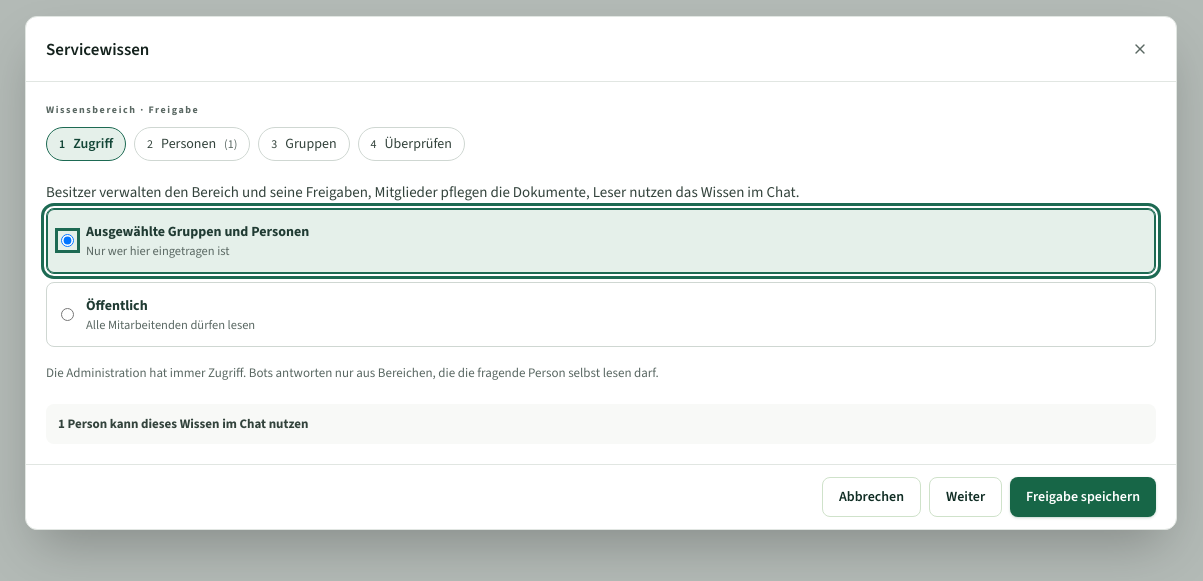
Test: updates the summary count as teams and persons are added
Step 1. Click the button "3 Gruppen" → click(304, 144), box [258,127,350,161]
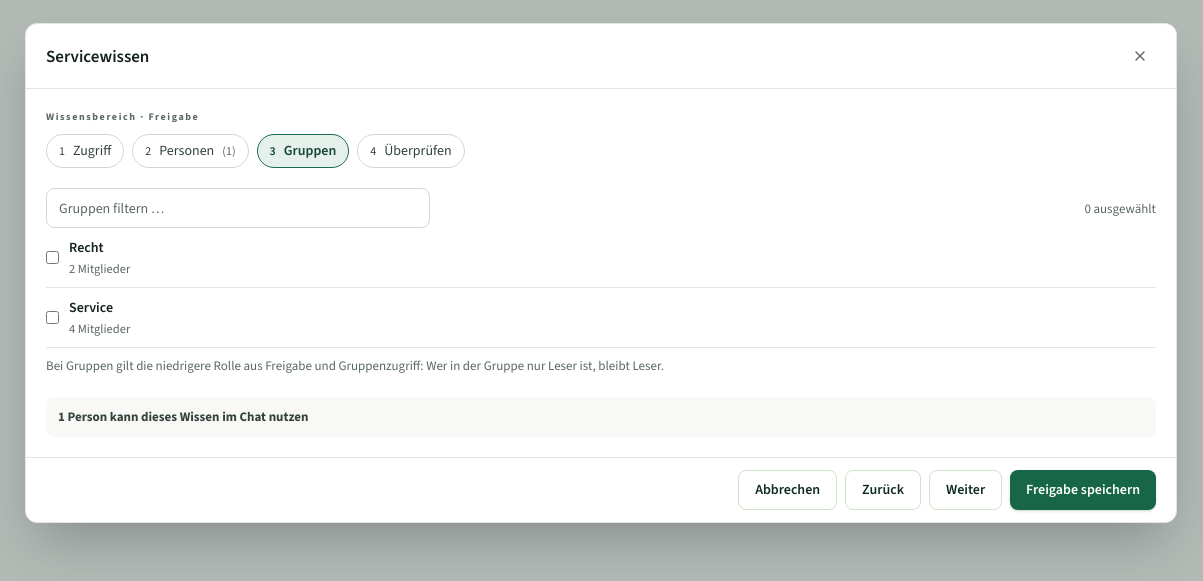
Expected: the text "1 Person kann dieses Wissen im Chat nutzen" is shown, [58,408,308,425]
Result: the checkbox labelled "Service 4 Mitglieder" is shown
Step 2. Click the checkbox labelled "Service 4 Mitglieder" → click(52, 318), box [46,311,59,324]
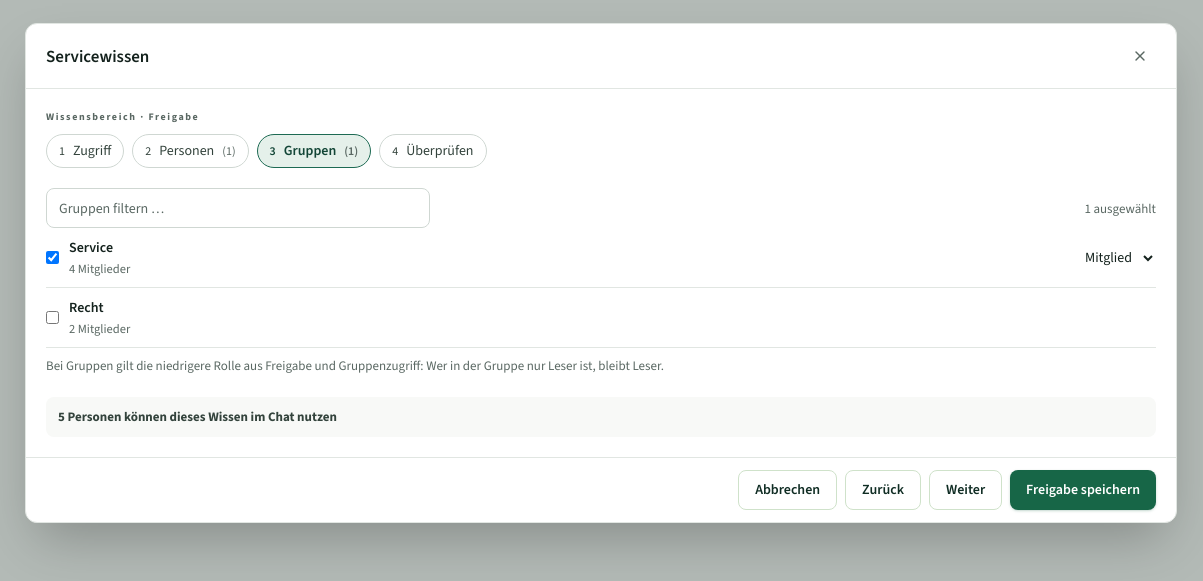
Result: the text "5 Personen können dieses Wissen im Chat nutzen" is shown at [58,408,337,425]
Step 3. Click the button "2 Personen (1)" → click(190, 151), box [132,134,249,168]
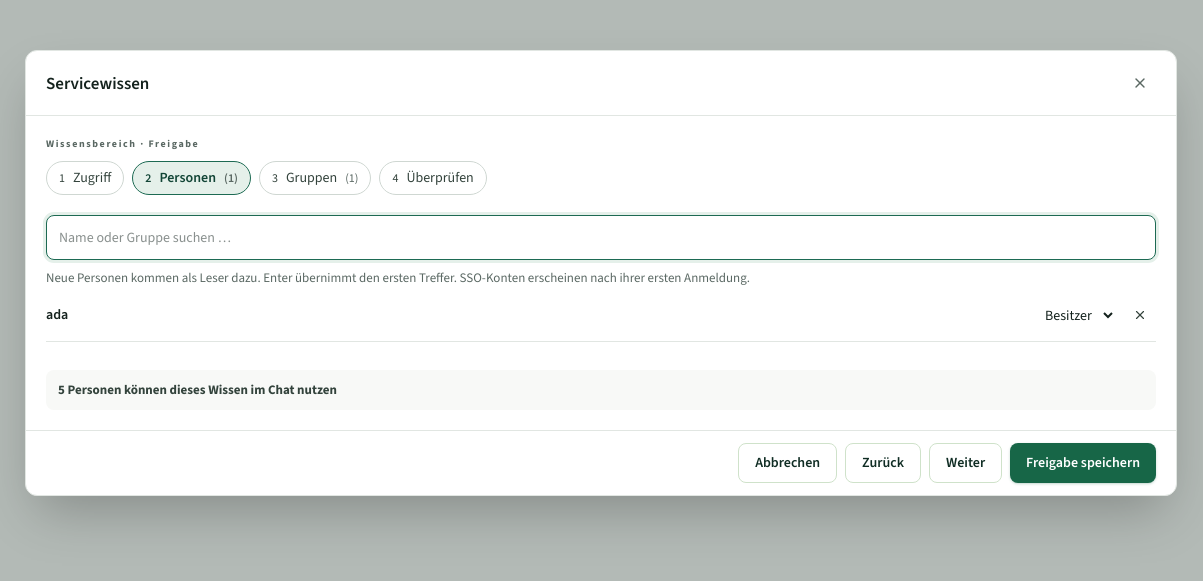
Step 4. Type "Max" into the search field with placeholder "Name oder Gruppe suchen …" → (601, 238), box [59,216,1143,259]
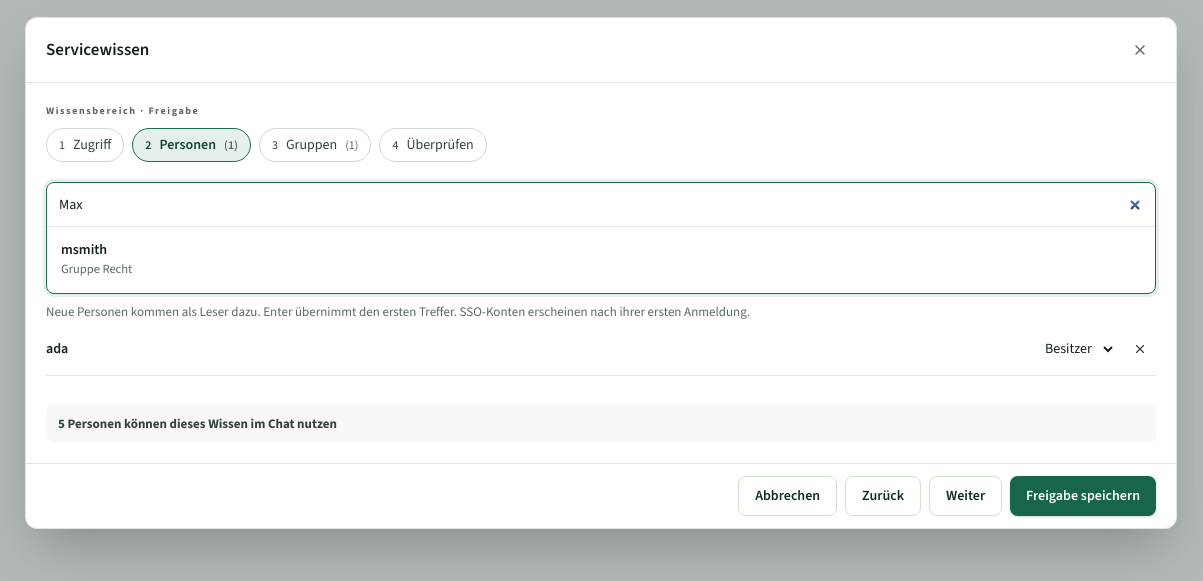
Step 5. Click the button "msmith Gruppe Recht" → click(84, 249), box [53,231,1149,287]
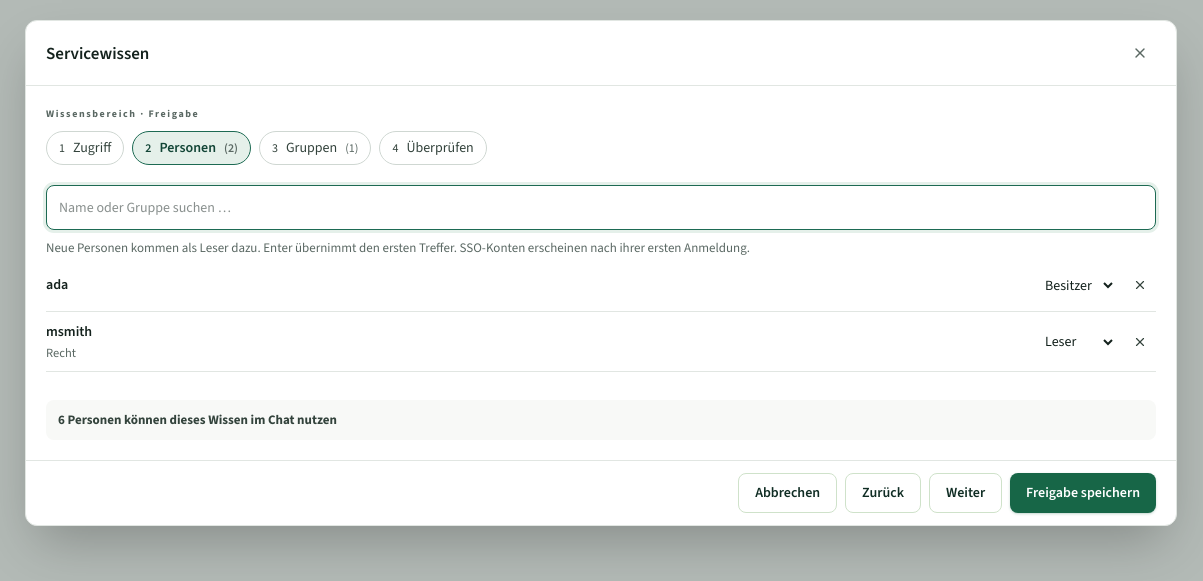
Result: the text "6 Personen können dieses Wissen im Chat nutzen" is shown at [58,411,337,428]
Step 6. Click the button named "msmith entfernen" → click(1140, 342), box [1124,326,1156,358]
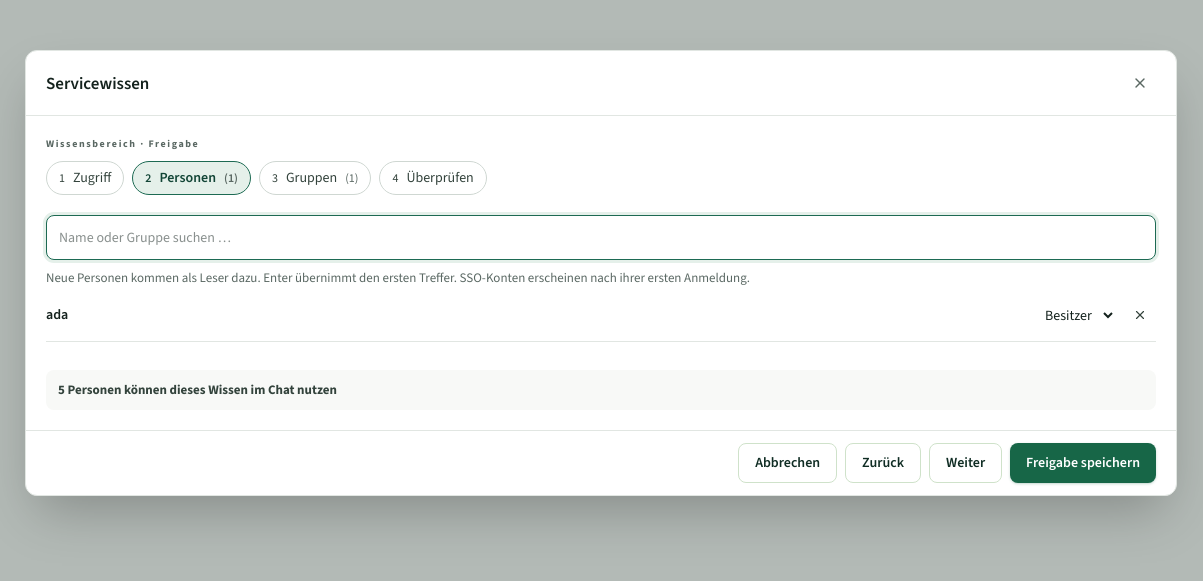
Result: the text "5 Personen können dieses Wissen im Chat nutzen" is shown at [58,381,337,398]
